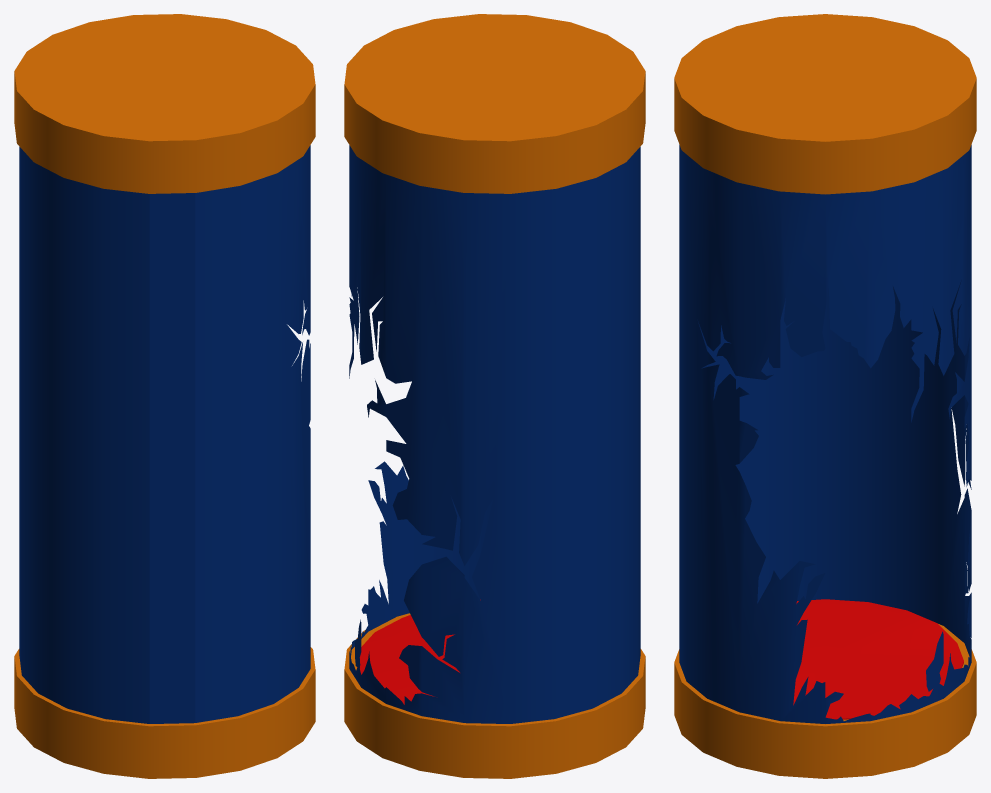
File: vb_broken_tank.fbx
3 views of the same model, side by side, from view 1: azimuth 30°, elevation 25°; view 2: azimuth 150°, elevation 25°; view 3: azimuth 270°, elevation 25° (orthographic).
Visible parts, largest first — view 1: BrokenTank1; view 2: BrokenTank1; view 3: BrokenTank1.
Boxes of the visible parts, left/top/right/bottom form: BrokenTank1: left=14, top=14, right=315, bottom=778; BrokenTank1: left=344, top=14, right=645, bottom=778; BrokenTank1: left=674, top=14, right=976, bottom=778.
Bounding box in the file's own units: 2.56 × 5.95 × 2.56.
